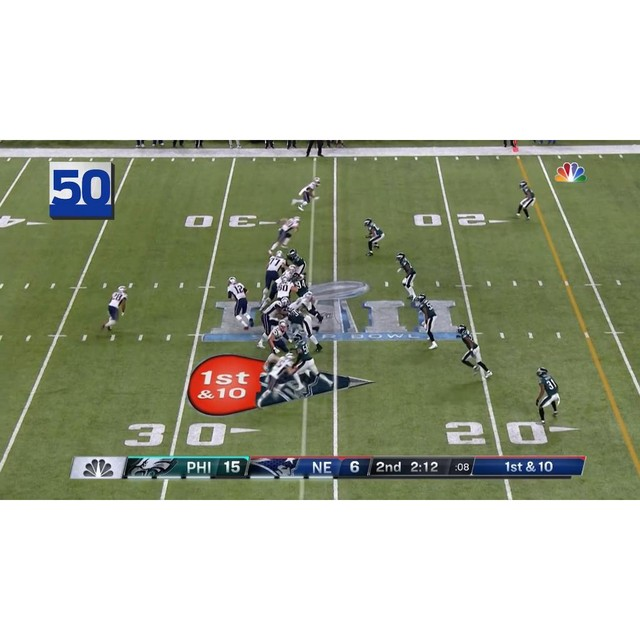american-football-player: (255, 352, 296, 408), (284, 301, 322, 351), (457, 324, 492, 377), (292, 272, 324, 327), (291, 333, 321, 391), (256, 297, 288, 348), (262, 320, 290, 373), (535, 367, 561, 424), (227, 276, 253, 329), (101, 285, 128, 332), (261, 251, 287, 297), (268, 216, 301, 252), (395, 252, 417, 301), (292, 177, 321, 211), (364, 218, 385, 256), (516, 181, 535, 220), (285, 249, 307, 278)
